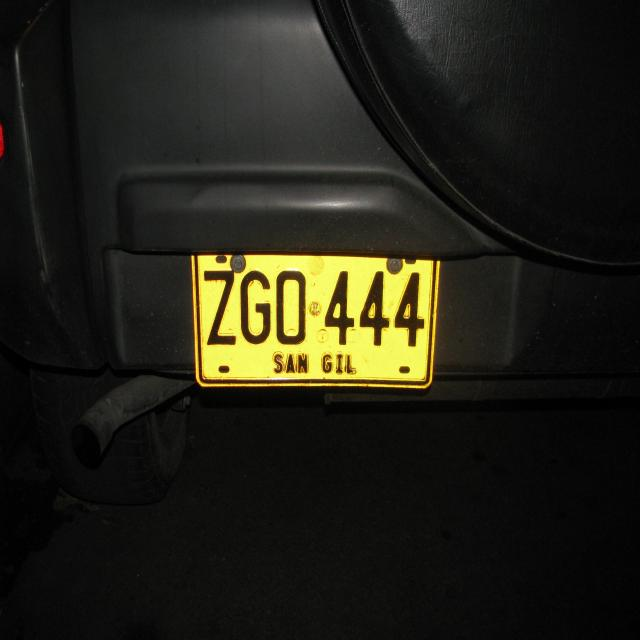placa: (188, 245, 440, 393)
